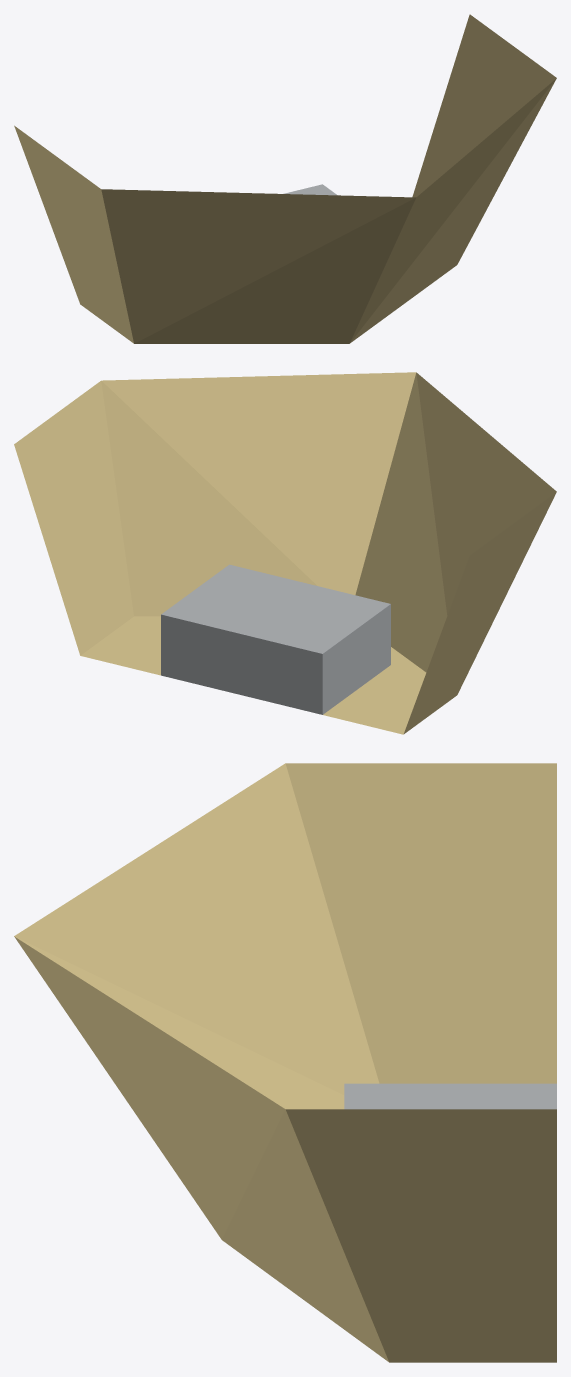
Rendered from wall_light.glb.
The picture shows the model from 3 angles, top to bottom: view 1: azimuth 30°, elevation 25°; view 2: azimuth 150°, elevation 25°; view 3: azimuth 270°, elevation 25°; orthographic projection. The views are drawn at different scales.
Visible parts, largest first — view 1: wall_light; view 2: wall_light; view 3: wall_light.
Boxes of the visible parts, box(x1,y1,x2,y2) form: wall_light: box(14, 14, 556, 343); wall_light: box(14, 372, 556, 734); wall_light: box(14, 763, 556, 1362).
Bounding box in the file's own units: 0.3 × 0.1228 × 0.199.
